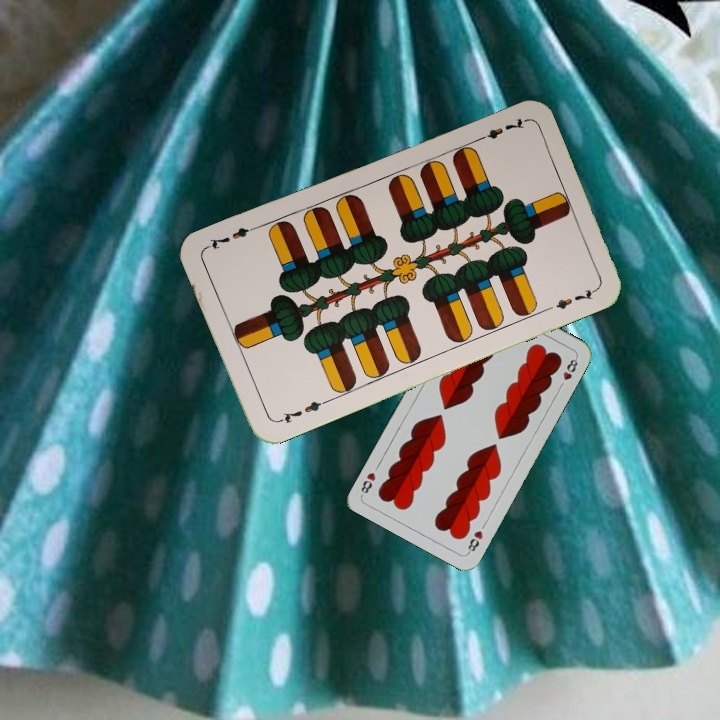E7: (471, 114, 528, 145), (273, 396, 330, 426)
H8: (464, 526, 486, 556)
